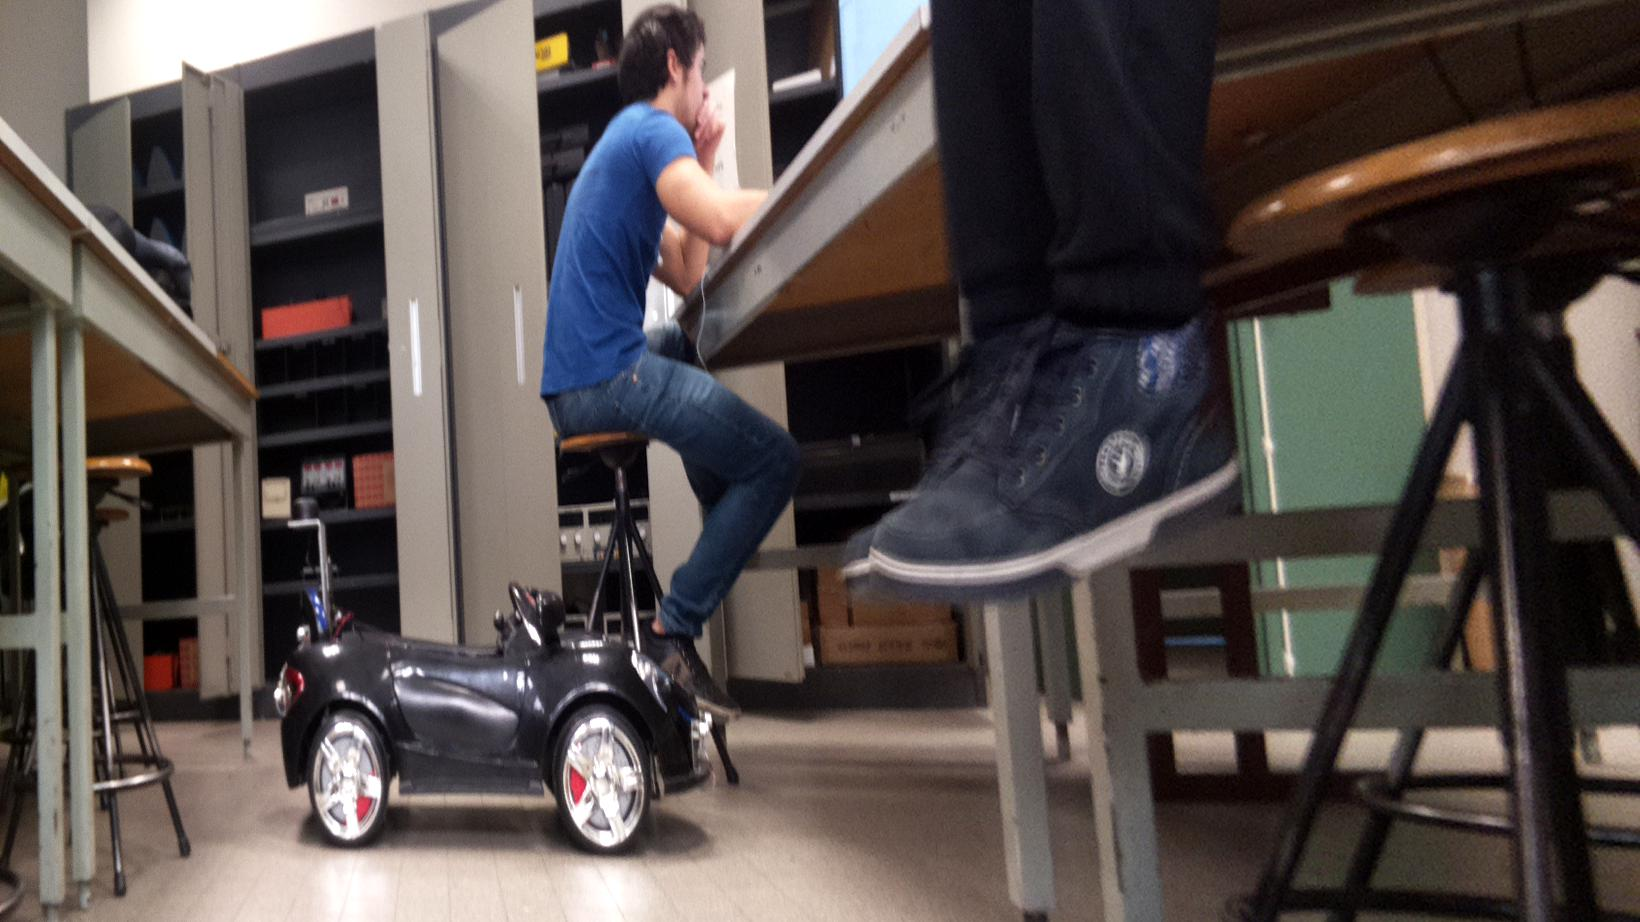big: (269, 493, 717, 853)
